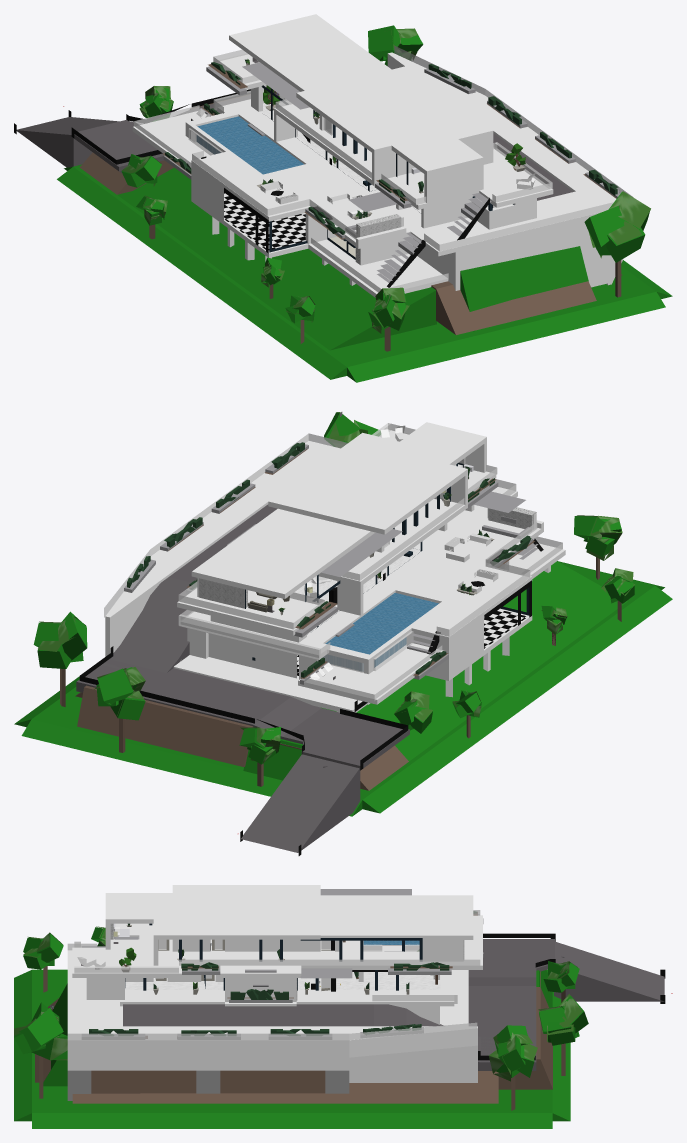
File: rhouse.glb
3 renders of one model, top to bottom at view 1: azimuth 30°, elevation 25°; view 2: azimuth 150°, elevation 25°; view 3: azimuth 270°, elevation 25°, orthographic. The views are drawn at different scales.
Parts seen in each view (by area): view 1: brookhaven_0; view 2: brookhaven_0; view 3: brookhaven_0.
Part boxes in pixels (bbox=[...]): brookhaven_0: bbox=[14, 14, 672, 382]; brookhaven_0: bbox=[14, 412, 672, 855]; brookhaven_0: bbox=[14, 885, 672, 1128].
Bounding box in the file's own units: 178 × 72.67 × 309.
Materials: 90 (28 with a texture image).
